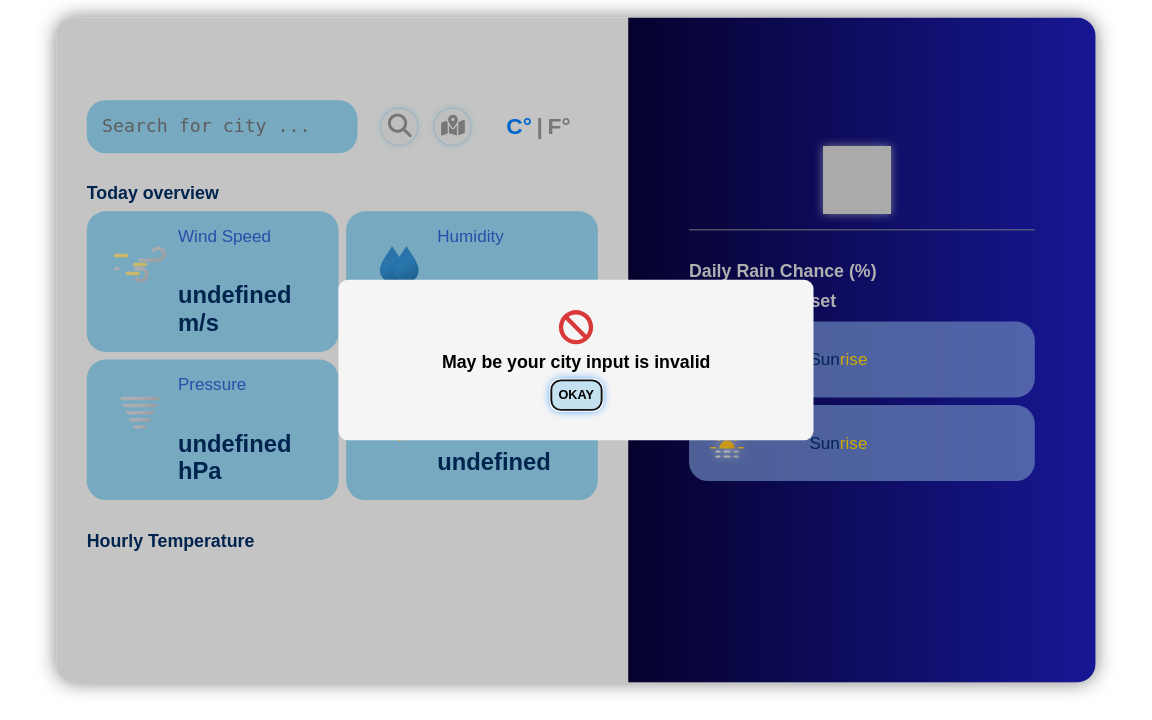
Test case: User Search › should pop up error message when user enter invalid input
Expected: the text "Wind Speed" is shown, [178,226,271,246]
Expected: the heading "May be your city input is invalid" is shown, [442,351,710,372]
What coordinates should you click on to do the following:
click the button with aria-label "close-button"
I would click on:
 (576, 395)
Its box is [551,380,601,409].
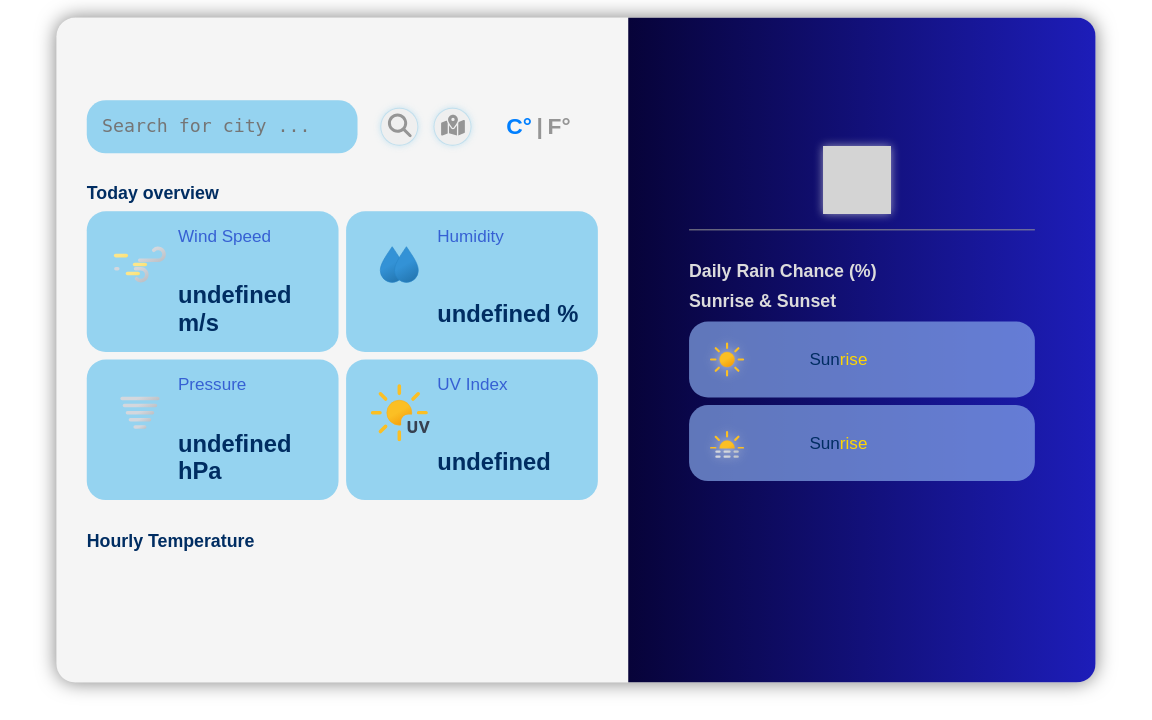
Expected: the heading "May be your city input is invalid" is gone
